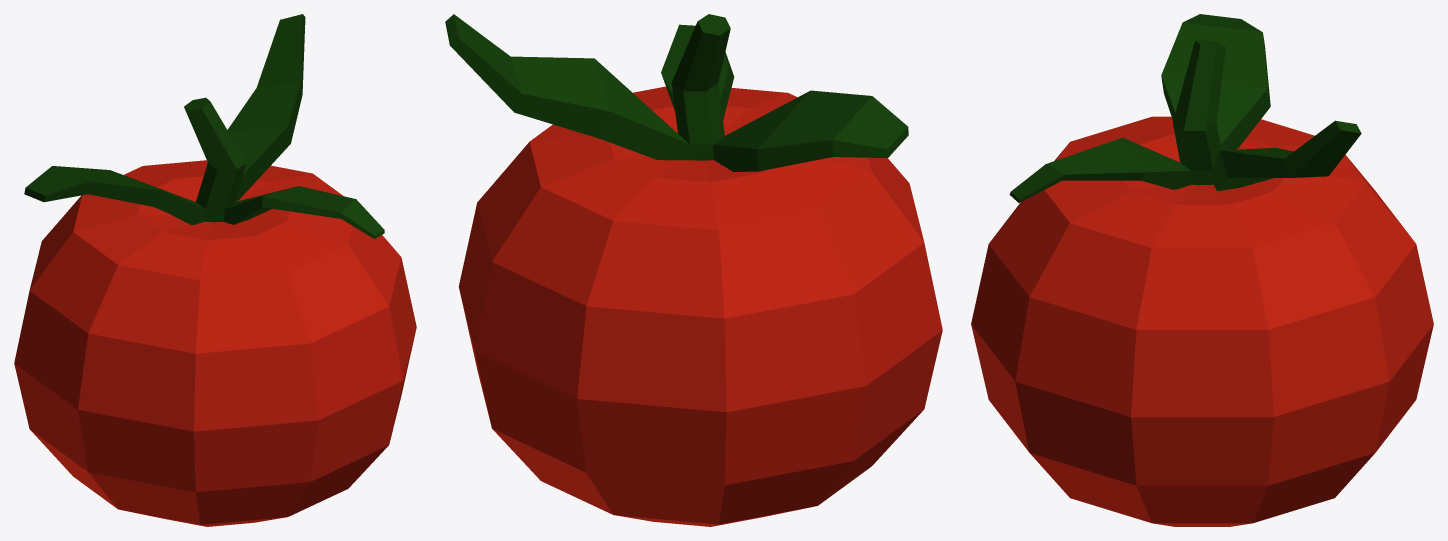
3 renders of one model, left to right at view 1: azimuth 30°, elevation 25°; view 2: azimuth 150°, elevation 25°; view 3: azimuth 270°, elevation 25°, orthographic. The views are drawn at different scales.
Parts seen in each view (by area): view 1: Tomato_Sphere.004; view 2: Tomato_Sphere.004; view 3: Tomato_Sphere.004.
Part boxes in pixels (<box>): Tomato_Sphere.004: <box>14,14,416,526</box>; Tomato_Sphere.004: <box>445,14,942,526</box>; Tomato_Sphere.004: <box>971,14,1433,526</box>.
Size of the model in its own units: 2.92 by 3.33 by 3.03.
Materials: 1 (1 with a texture image).
